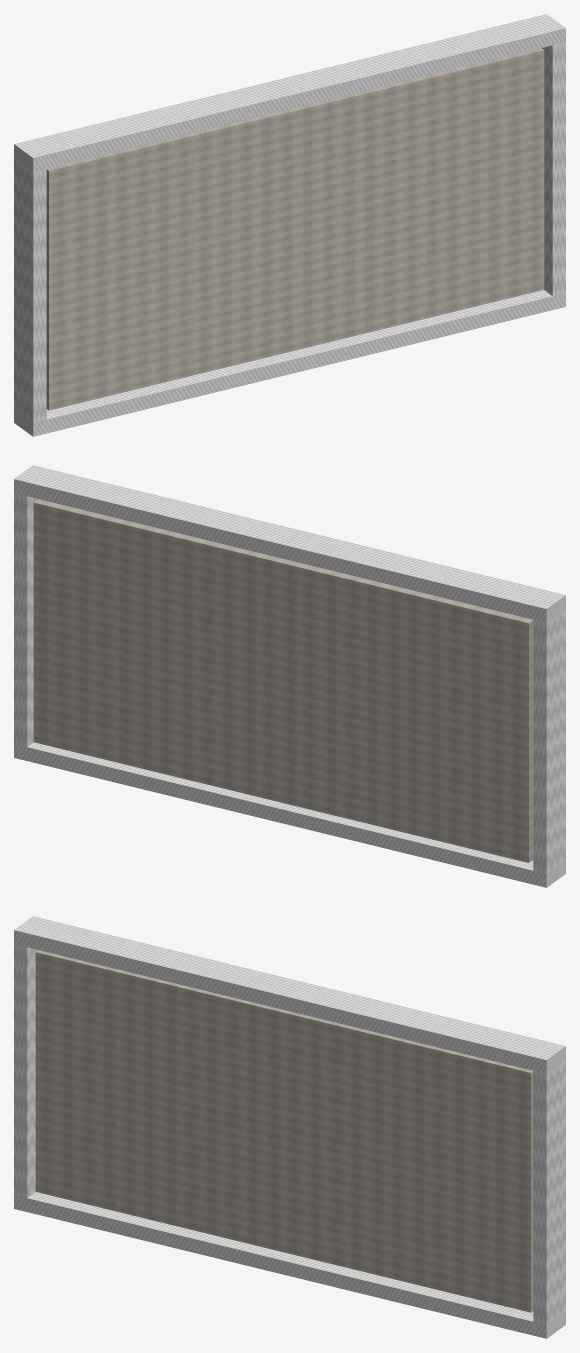
3 renders of one model, top to bottom at view 1: azimuth 30°, elevation 25°; view 2: azimuth 150°, elevation 25°; view 3: azimuth 330°, elevation 25°, orthographic.
Parts seen in each view (by area): view 1: 5 canvas, 1 frame_top, 2 frame_bottom, 3 frame_left, 4 frame_right; view 2: 5 canvas, 1 frame_top, 2 frame_bottom, 3 frame_left, 4 frame_right; view 3: 5 canvas, 1 frame_top, 2 frame_bottom, 4 frame_right, 3 frame_left.
Part boxes in pixels (<box>): 5 canvas: <box>46,48,544,410</box>; 1 frame_top: <box>14,14,565,171</box>; 2 frame_bottom: <box>14,290,565,436</box>; 3 frame_left: <box>14,158,46,422</box>; 4 frame_right: <box>542,42,565,295</box>; 5 canvas: <box>33,499,533,862</box>; 1 frame_top: <box>14,465,565,622</box>; 2 frame_bottom: <box>14,742,565,887</box>; 3 frame_left: <box>533,609,565,873</box>; 4 frame_right: <box>14,493,37,746</box>; 5 canvas: <box>35,950,533,1312</box>; 1 frame_top: <box>14,916,565,1073</box>; 2 frame_bottom: <box>14,1192,565,1338</box>; 4 frame_right: <box>533,1060,565,1324</box>; 3 frame_left: <box>14,944,37,1197</box>.
Bounding box in the file's own units: 2 × 1 × 0.125.
Materials: 2 (2 with a texture image).
